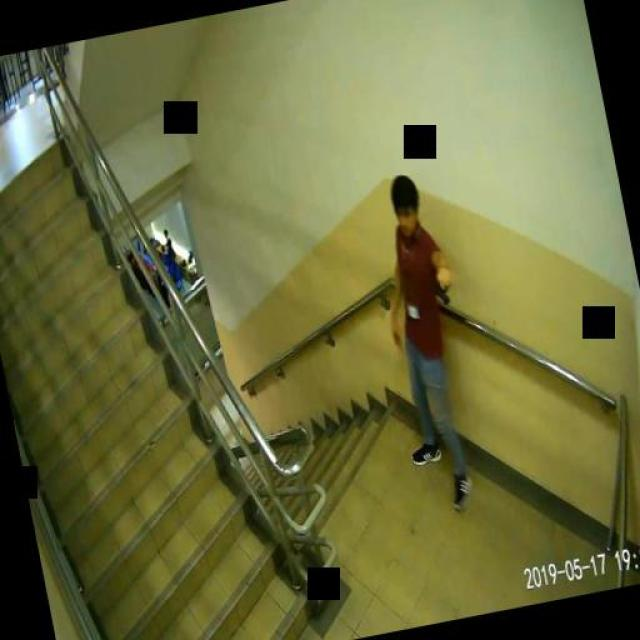gun: (430, 272, 455, 306)
